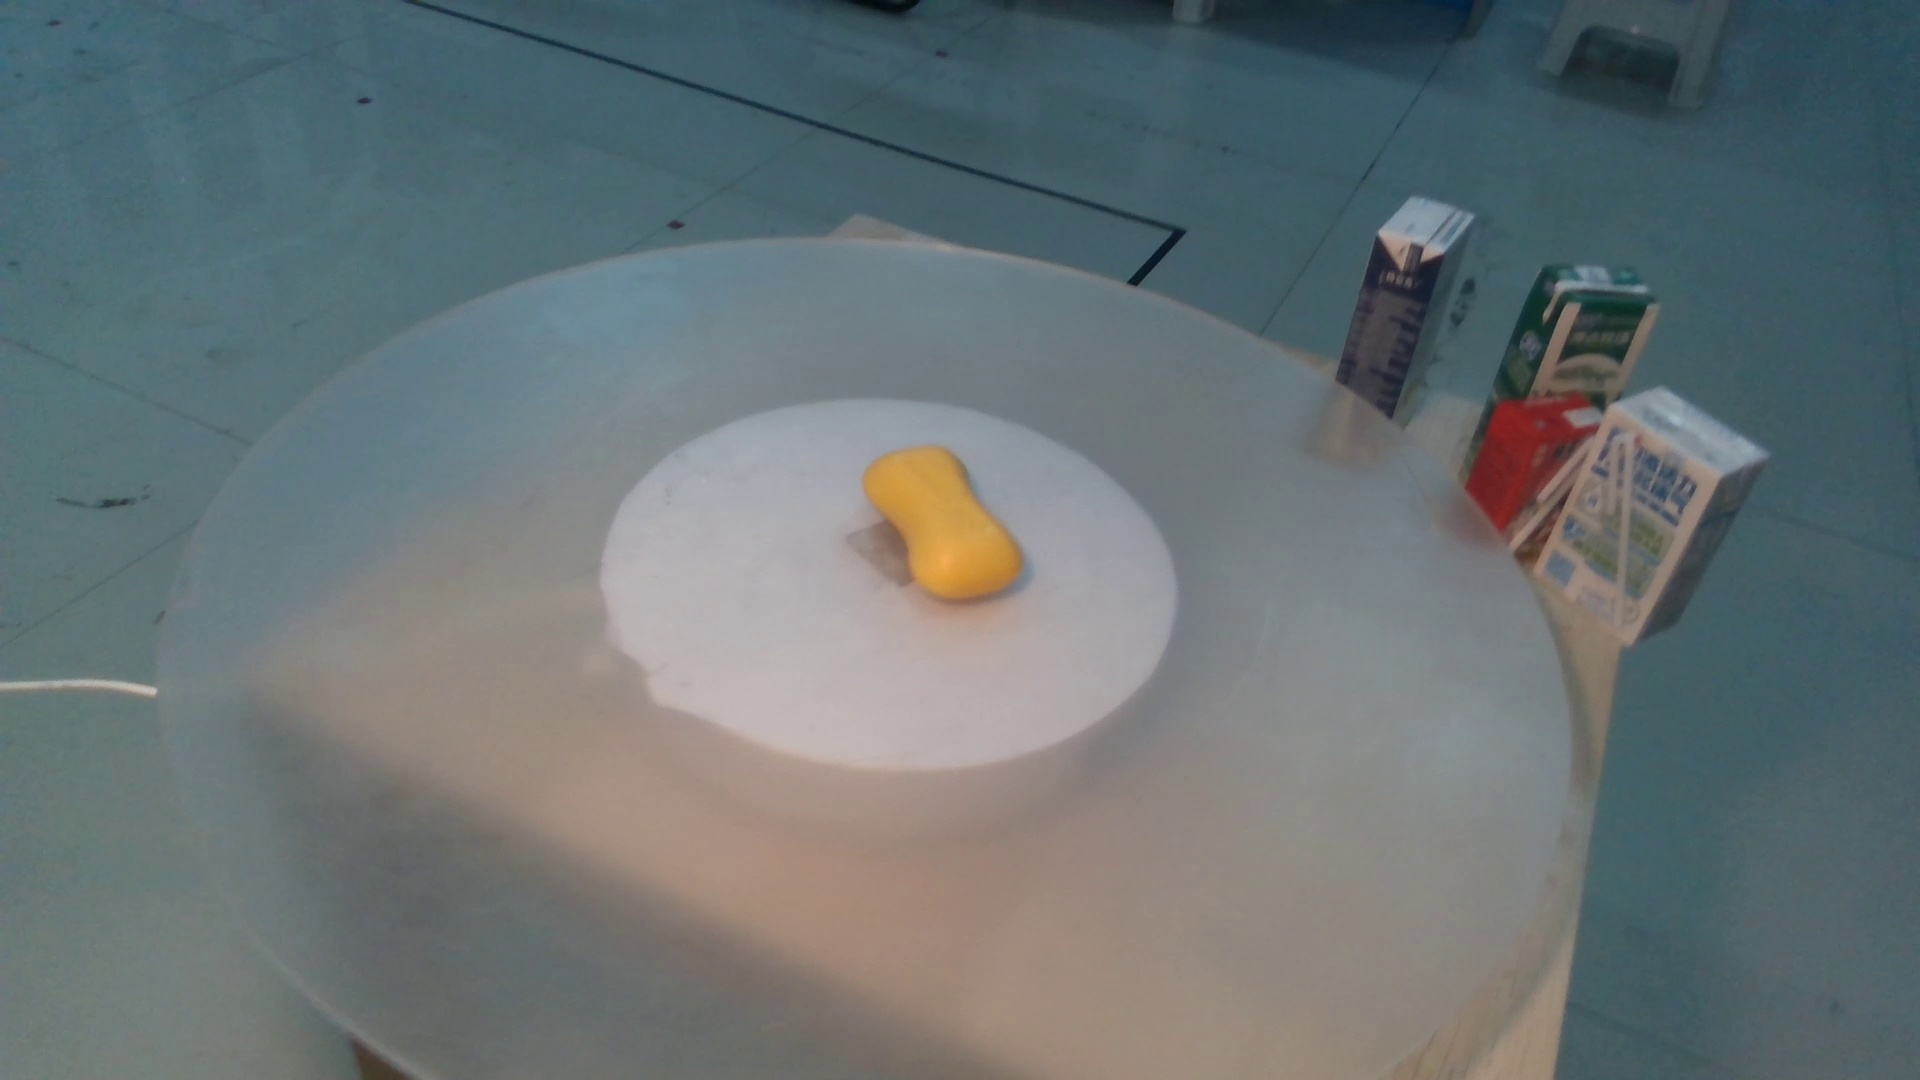CA003_1: (847, 429, 1025, 607)
